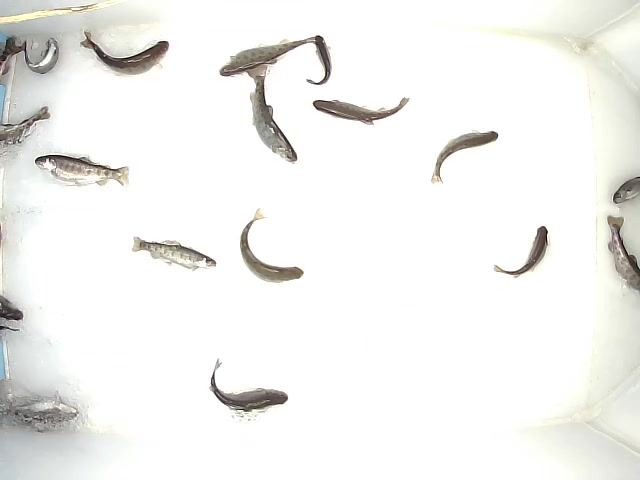fish: (236, 207, 306, 285), (246, 62, 298, 165), (209, 357, 289, 414), (78, 29, 170, 76), (217, 36, 315, 77), (430, 129, 499, 187), (34, 154, 130, 190), (311, 94, 411, 128), (491, 225, 550, 279), (132, 235, 218, 272), (20, 37, 61, 76), (305, 34, 335, 86)
